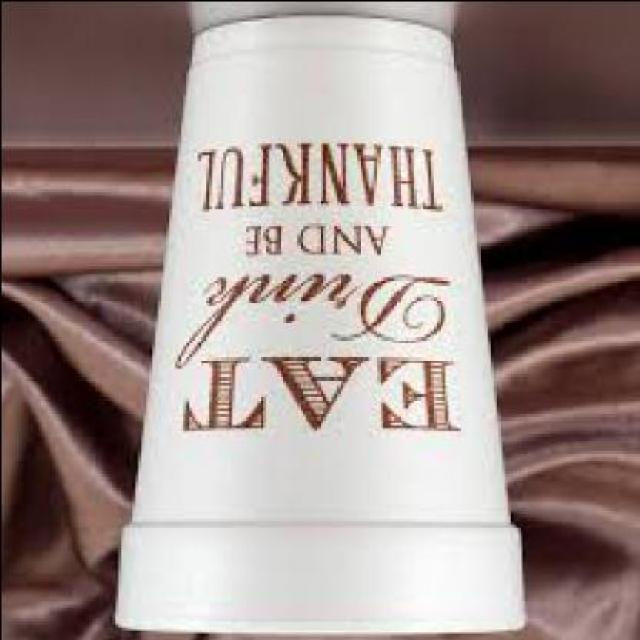PAPER: (114, 11, 529, 634)
